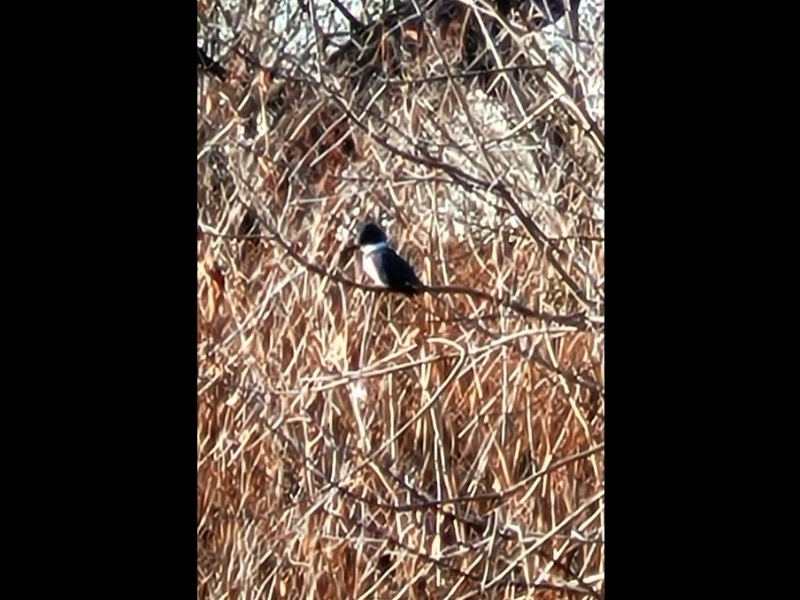kingfisher: (341, 215, 428, 296)
